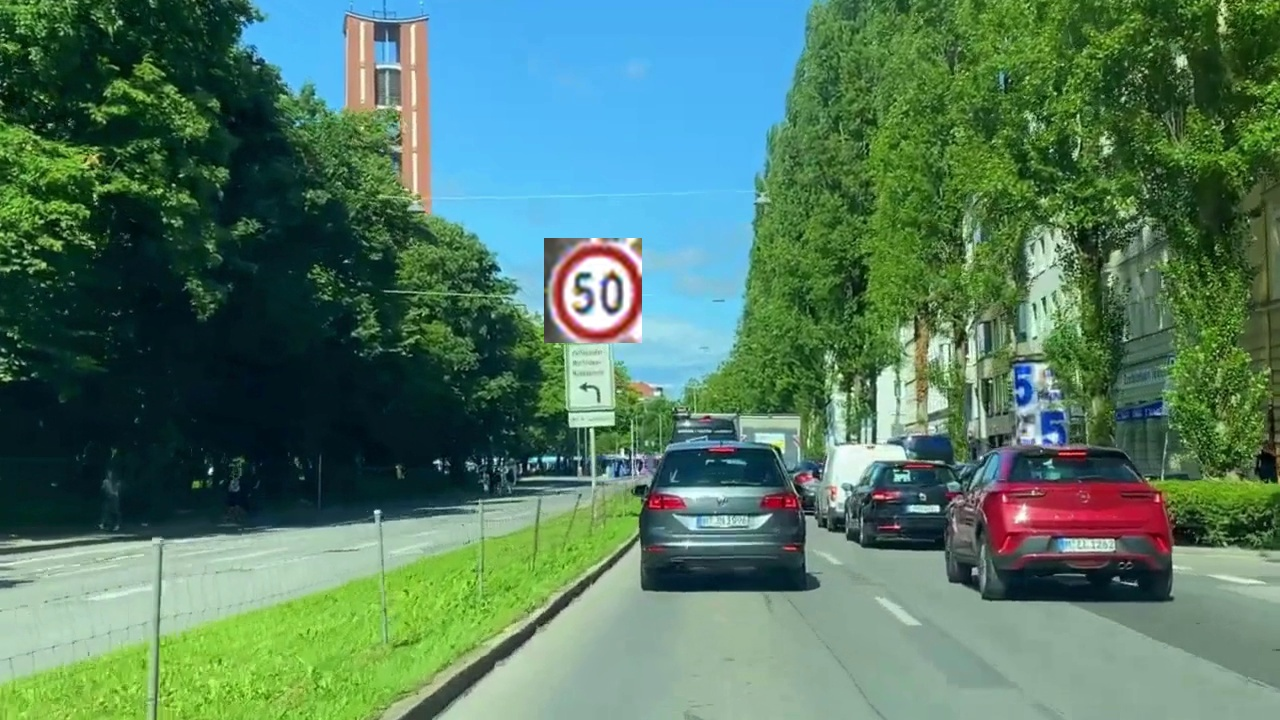Speed 50: (544, 238, 642, 343)
